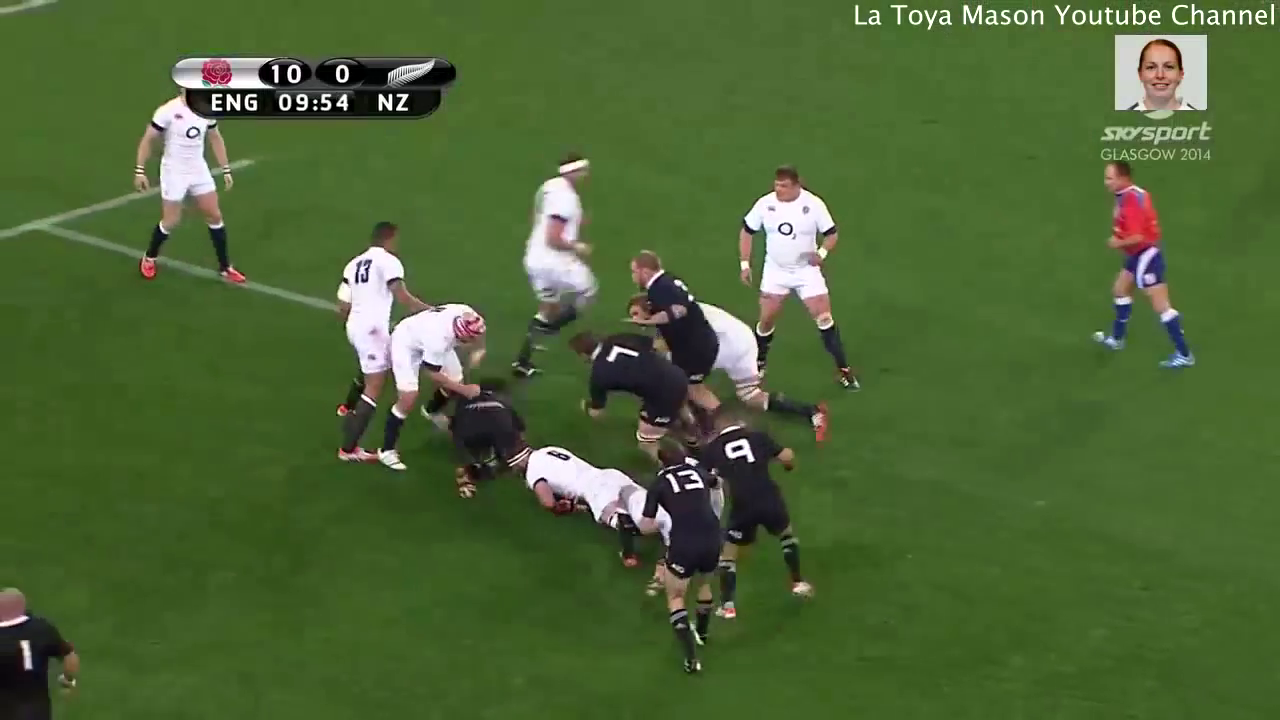player: (609, 289, 840, 454), (721, 155, 873, 400), (1073, 152, 1206, 384), (120, 70, 254, 293), (320, 213, 433, 476), (501, 140, 613, 392), (697, 412, 822, 625), (369, 288, 495, 481), (636, 431, 729, 679), (554, 313, 691, 464), (625, 244, 732, 436), (494, 428, 649, 540), (421, 371, 539, 508), (1, 576, 78, 720)
